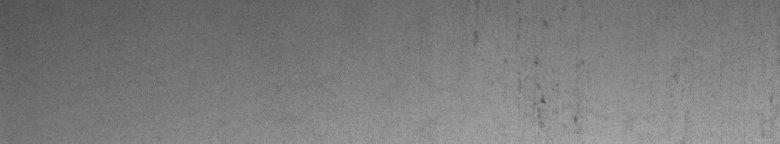ib: (474, 17, 580, 127)
